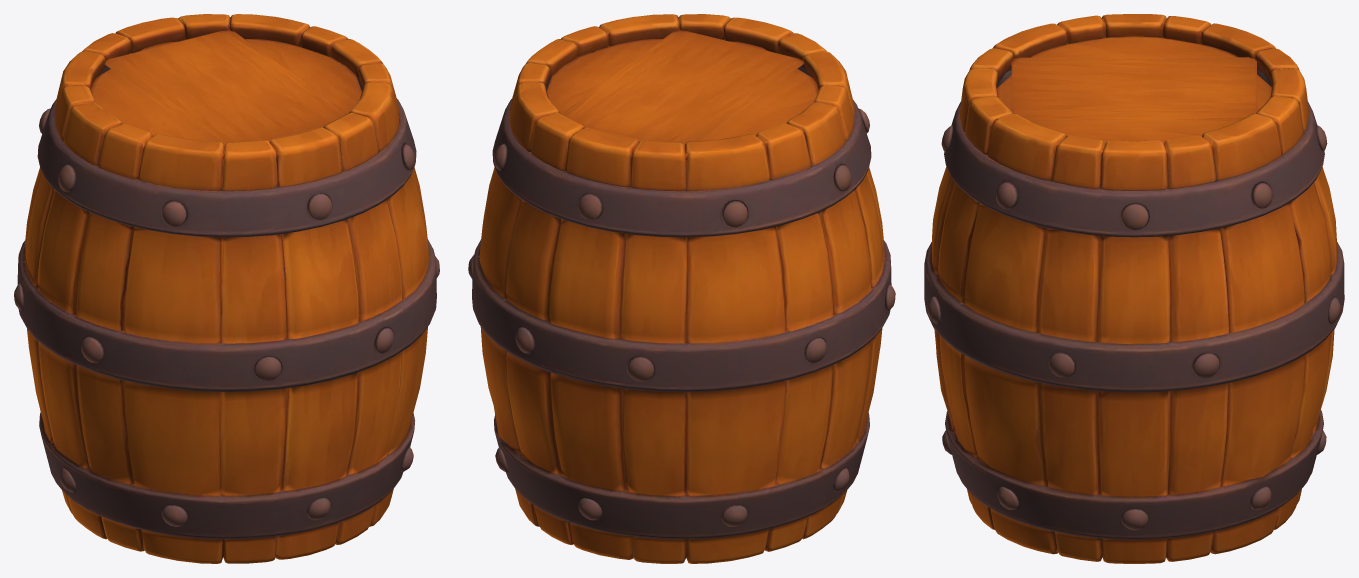
Rendered from barrel.glb.
The picture shows the model from 3 angles, left to right: view 1: azimuth 30°, elevation 25°; view 2: azimuth 150°, elevation 25°; view 3: azimuth 270°, elevation 25°; orthographic projection.
Parts seen in each view (by area): view 1: tripo_node_e938bcf6-7a1a-48c1-b778-456e63ce362b; view 2: tripo_node_e938bcf6-7a1a-48c1-b778-456e63ce362b; view 3: tripo_node_e938bcf6-7a1a-48c1-b778-456e63ce362b.
Part boxes in pixels (box(x1,y1,x2,y2)): tripo_node_e938bcf6-7a1a-48c1-b778-456e63ce362b: box(14, 14, 439, 563); tripo_node_e938bcf6-7a1a-48c1-b778-456e63ce362b: box(468, 14, 895, 563); tripo_node_e938bcf6-7a1a-48c1-b778-456e63ce362b: box(924, 14, 1344, 563).
Size of the model in its own units: 0.9156 by 0.9995 by 0.9126.
1 material, 1 textured.
